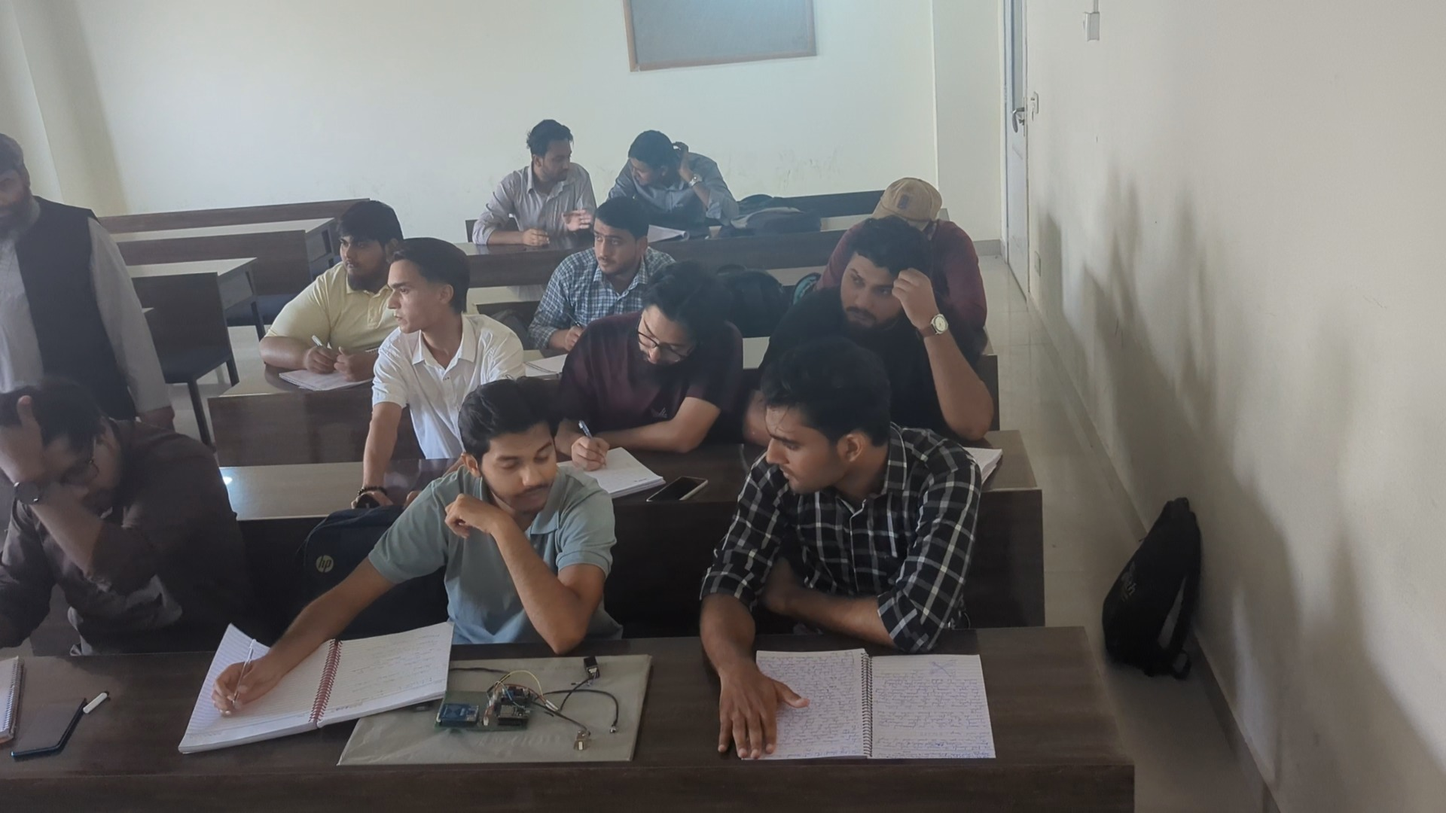look_forward: (826, 232, 958, 361), (295, 192, 402, 320), (394, 253, 509, 362), (572, 194, 653, 299)
sleep: (6, 351, 214, 650)
stand: (1, 113, 162, 408)
turn_head: (722, 363, 1032, 692), (409, 355, 680, 576), (498, 127, 608, 228), (619, 129, 720, 227)
write: (581, 280, 727, 490)
